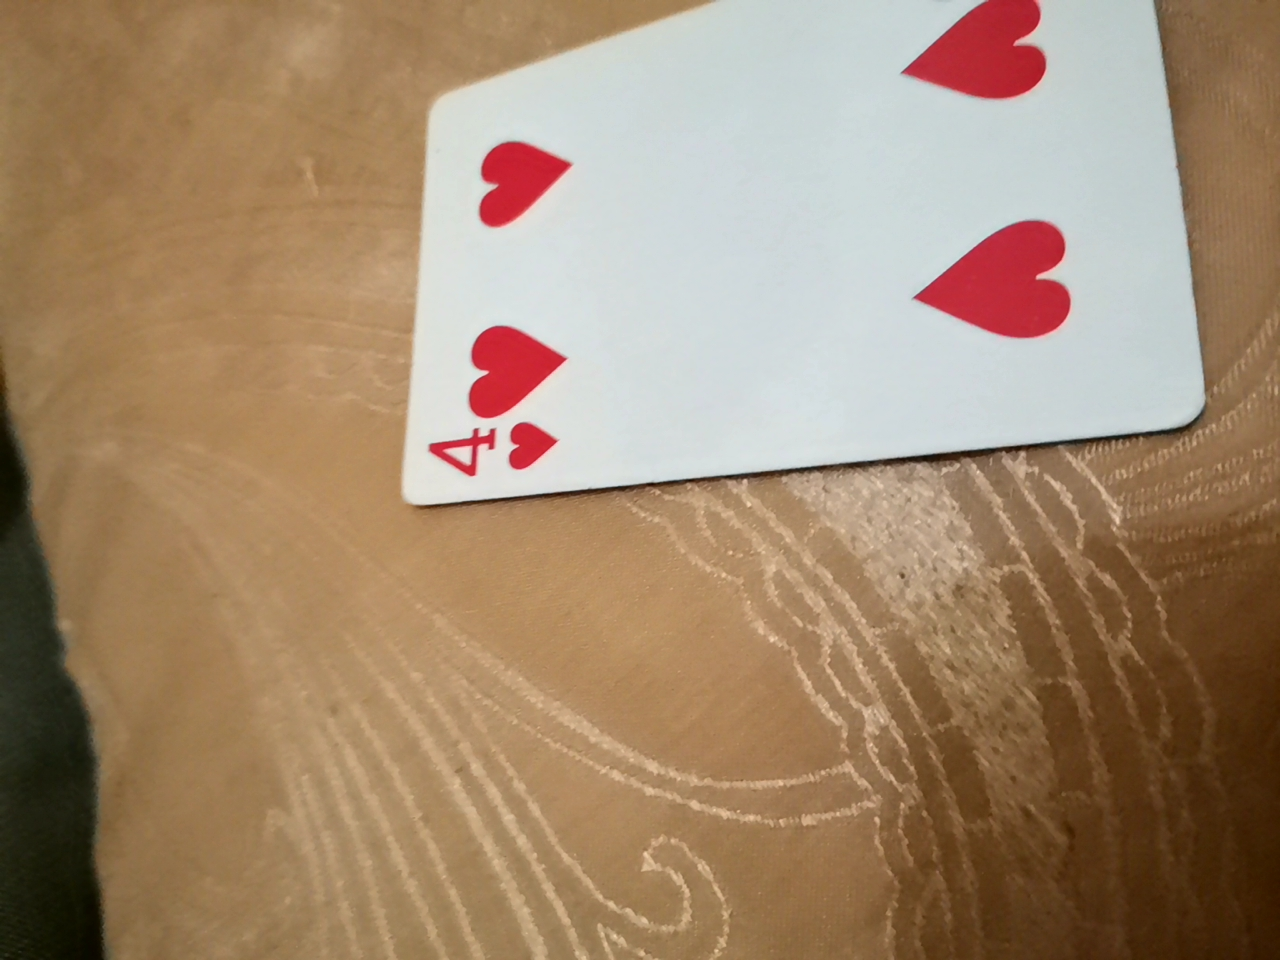hx 4: (375, 1, 1151, 552)
